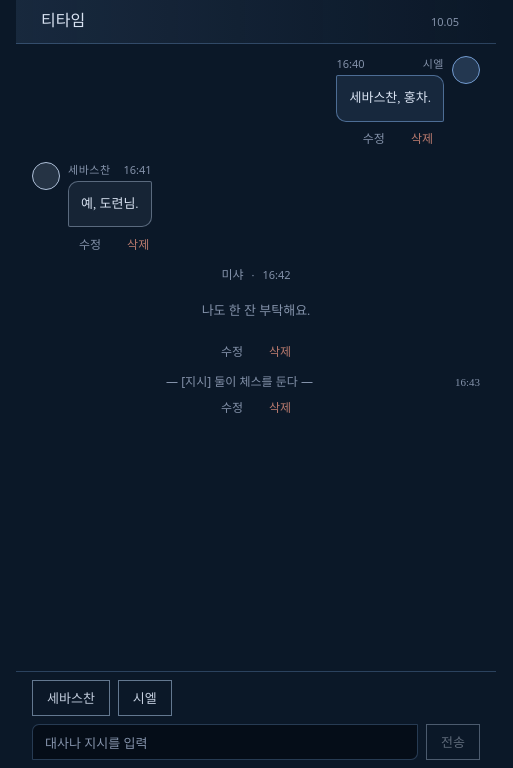
it: 생성 중 임시 말풍선·잠금 (R-CHAT-005 · R-CHAT-002 · R-CHAT-004) › TC-CH-071: 201 시엘 응답 → 임시 말풍선이 결과 말풍선으로 교체(중복 없음), 잠금 해제
The width and height of the screenshot is (513, 768).
Expected: the element named "대화 기록" is shown, [32,56,480,423]
Click the button with aria-label "시엘 대사 생성".
click(145, 698)  # box [118,680,172,716]
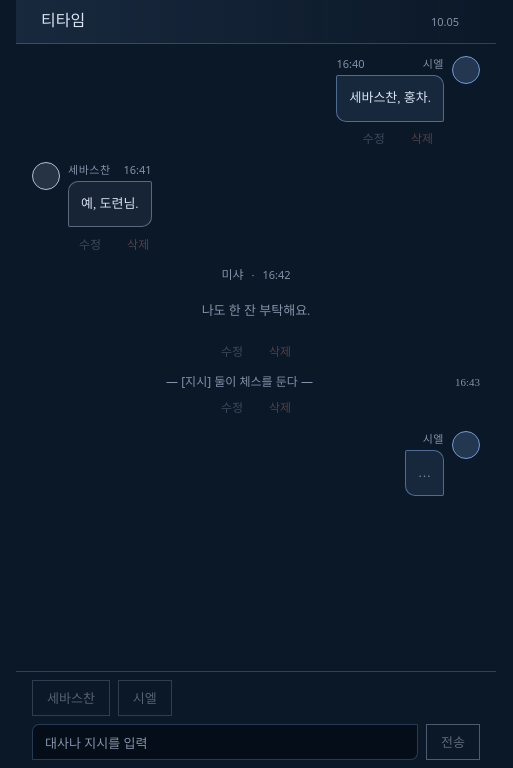
Type "안녕" into the text box named "메시지 입력".
click(225, 742); type("안녕")  # box [32,724,418,760]
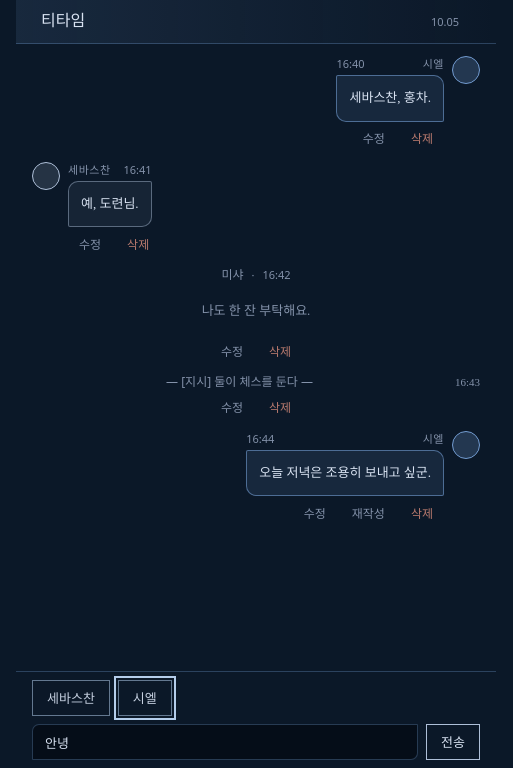
Result: the number of list items is 5 at [336,56,480,154]; [32,162,160,259]; [202,266,310,366]; [166,373,480,423]; [246,431,480,528]
Result: the list item "시엘 16:44 오늘 저녁은 조용히 보내고 싶군. 수정 재작성 삭제" is shown at [246,431,480,528]
Result: the element with class "ciel" is shown at [246,431,480,496]
